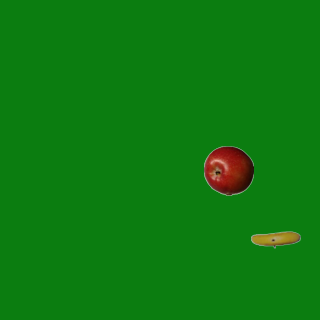Apple Braeburn: (203, 145, 253, 195)
Banana: (250, 214, 300, 264)
